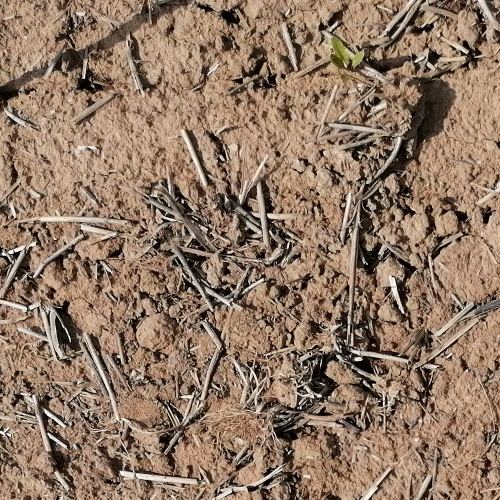beet: (329, 36, 364, 68)
